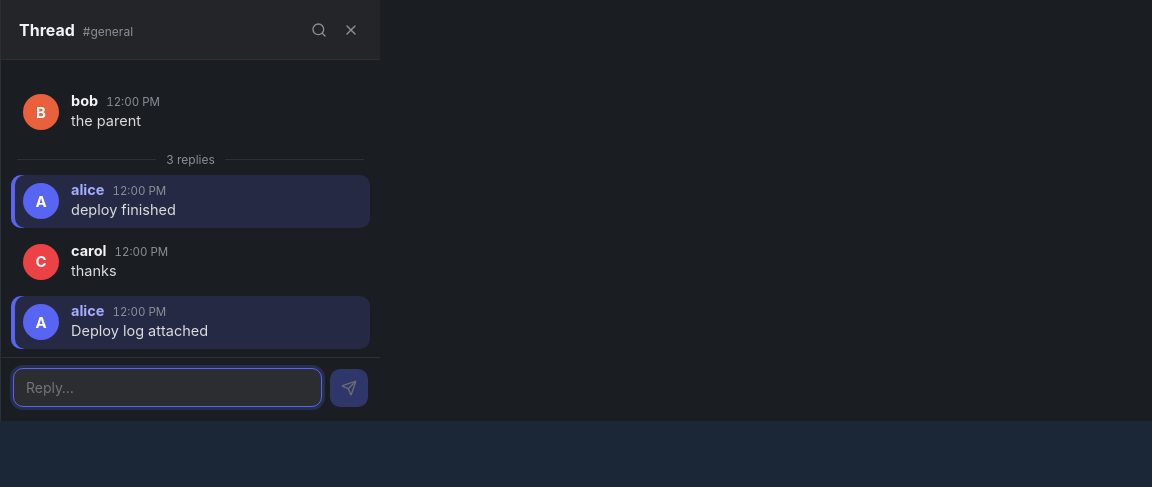
Test: search in a thread › filters replies, keeps the parent, and counts the matches
The image size is (1152, 487).
Click the button named "Search in thread": [319, 30] box x1=304 y1=14 x2=334 y2=44
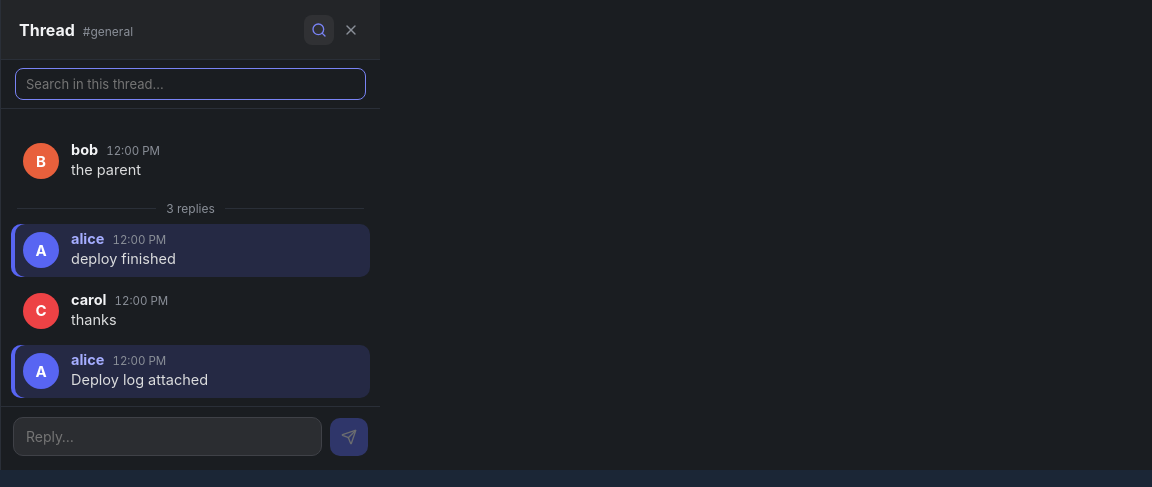
In the search field with placeholder "Search in this thread…": [190, 84] box x1=15 y1=68 x2=366 y2=100, type "deploy"
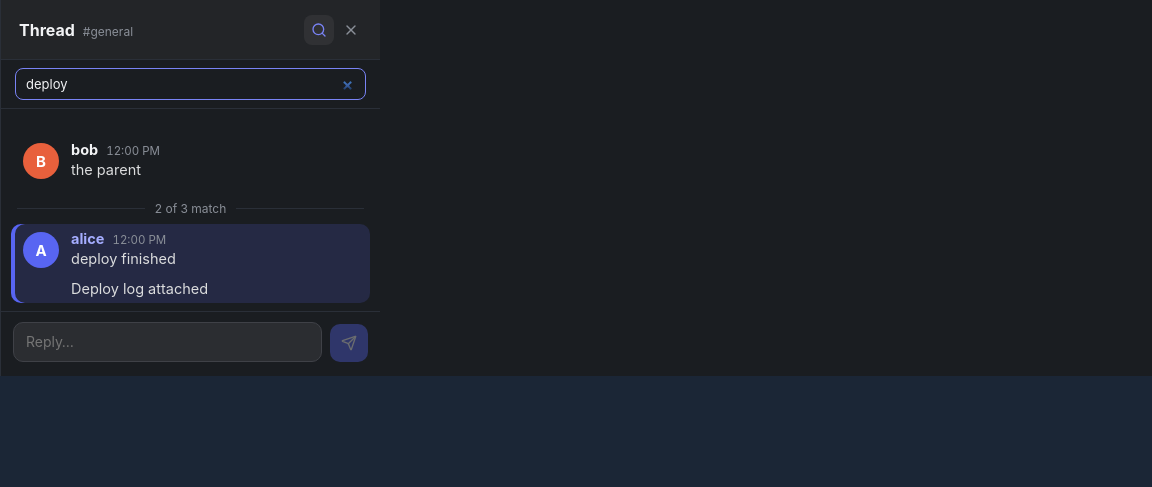
Check: the text "the parent" is shown, box x1=71 y1=161 x2=141 y2=178
Check: the text "2 of 3 match" is shown, box x1=155 y1=202 x2=226 y2=216
Check: the text "thanks" is gone
